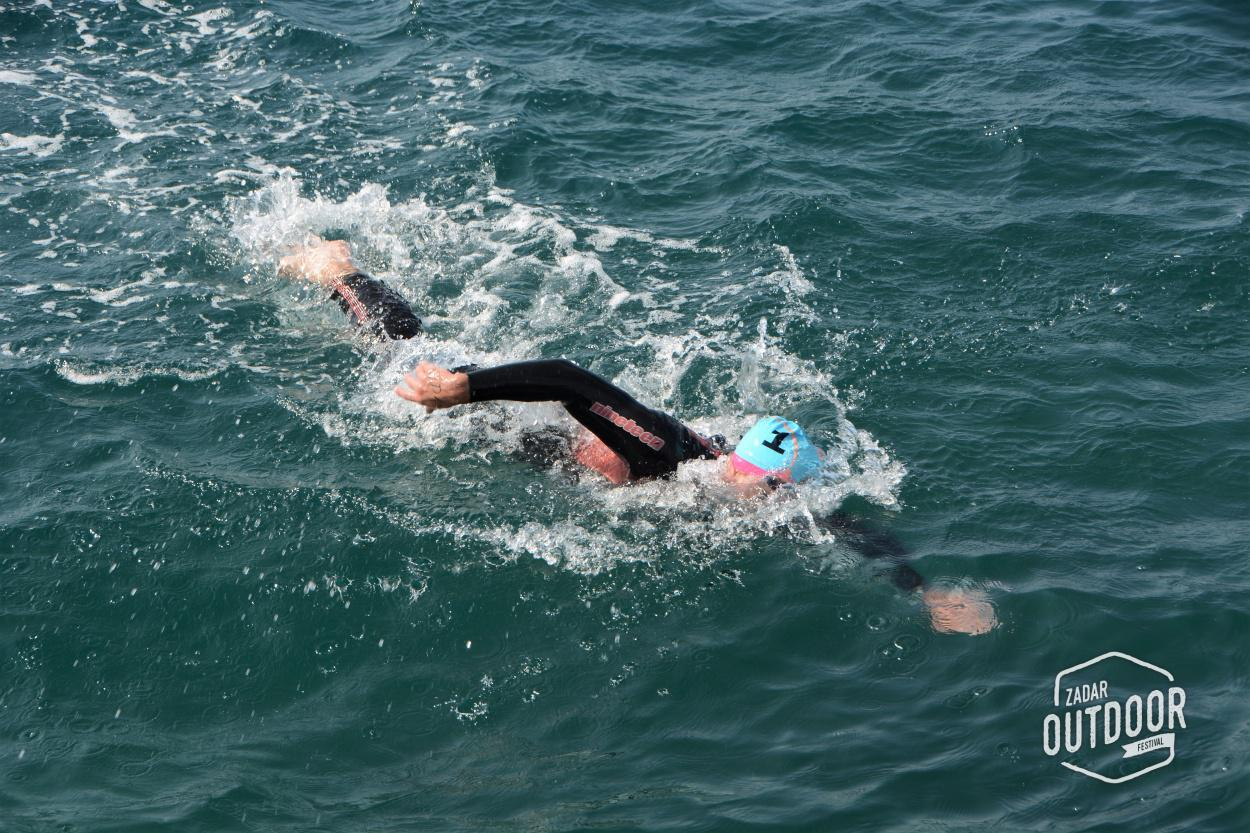human: (284, 232, 991, 638)
